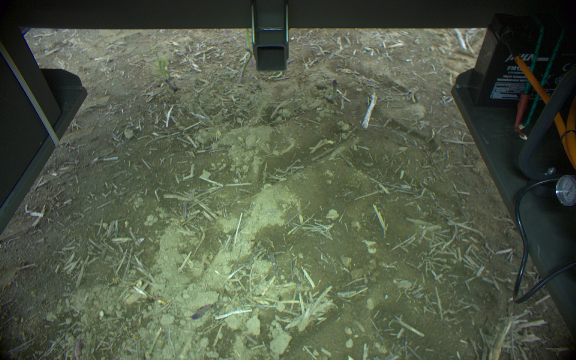aspa: (236, 46, 252, 86), (328, 78, 341, 107), (244, 27, 252, 47)
